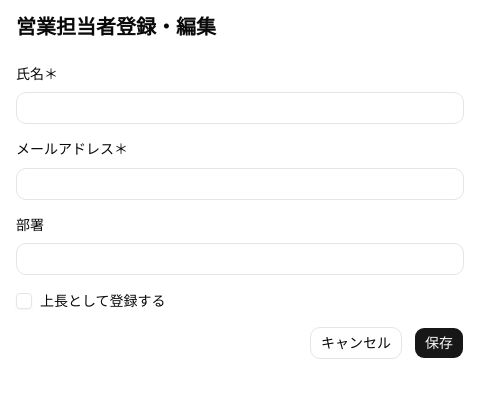
Scenario: SalesPersonForm (create mode) › shows the API's conflict message on a duplicate email (TC-SCR07-02)
Type "山田太郎" into the field labelled "氏名＊" at point(240, 108), box [16,92,464,124]
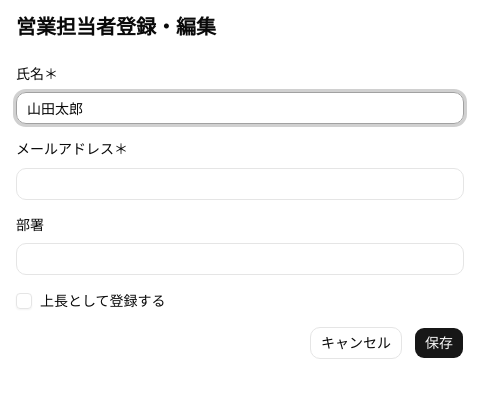
Type "yamada@example.com" into the field labelled "メールアドレス＊" at point(240, 184), box [16,168,464,200]
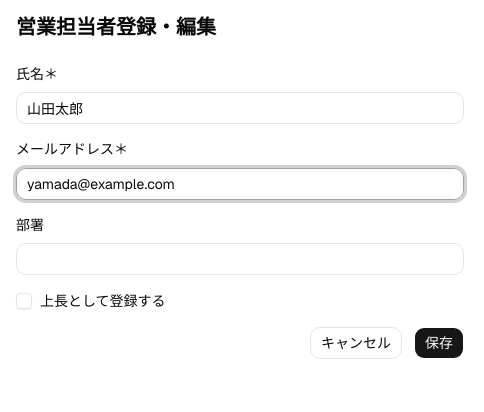
Click the button "保存" at point(439, 343), box [414,327,464,359]
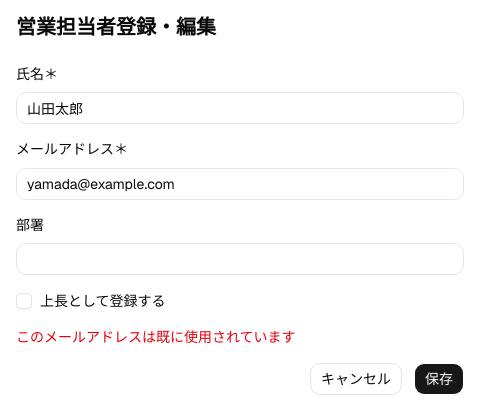
Expected: the text "このメールアドレスは既に使用されています" is shown, [16,328,296,346]
